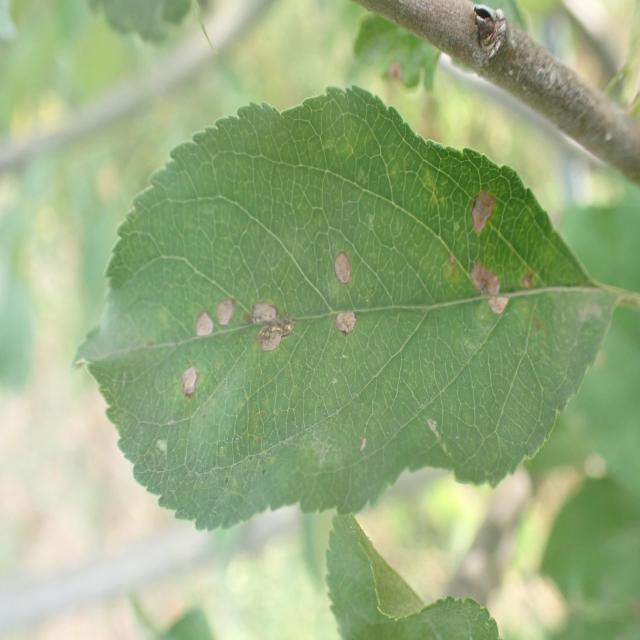frog-eye-leaf-spot: (73, 86, 619, 535)
